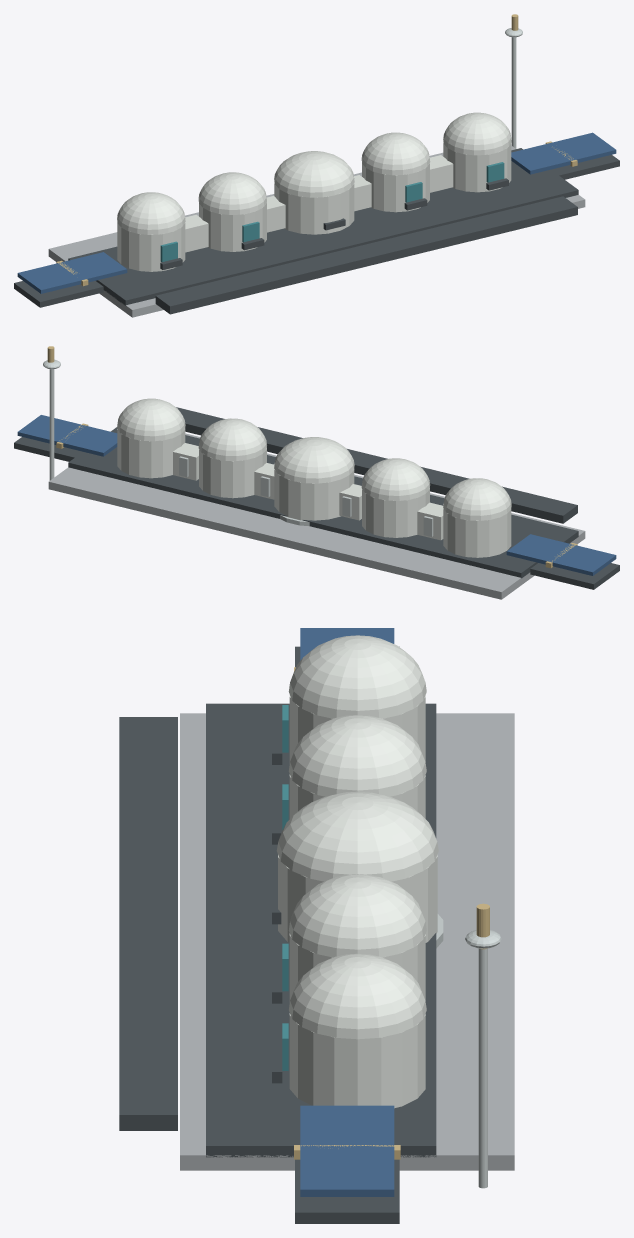
File: lunar_base.glb
3 views of the same model, one above another, from view 1: azimuth 30°, elevation 25°; view 2: azimuth 150°, elevation 25°; view 3: azimuth 270°, elevation 25° (orthographic). The views are drawn at different scales.
Visible parts, largest first — view 1: box/graphite (×4), dome/white (×5), cylinder/white (×5), box/solar (×2), box/white (×4), box/moon, cylinder/silver; view 2: box/graphite (×4), box/moon, dome/white (×5), cylinder/white (×5), box/solar (×2), box/white (×4), cylinder/silver; view 3: box/graphite (×3), dome/white (×5), box/moon, cylinder/white (×5), box/solar (×2), cylinder/silver.
Boxes of the visible parts, x1=… form: box/graphite (×4): x1=14, y1=148, x2=619, y2=314; dome/white (×5): x1=117, y1=112, x2=511, y2=234; cylinder/white (×5): x1=117, y1=142, x2=511, y2=271; box/solar (×2): x1=17, y1=132, x2=616, y2=293; box/white (×4): x1=185, y1=155, x2=453, y2=252; box/moon: x1=48, y1=145, x2=585, y2=317; cylinder/silver: x1=511, y1=37, x2=516, y2=148; box/graphite (×4): x1=14, y1=407, x2=619, y2=589; box/moon: x1=48, y1=433, x2=585, y2=599; dome/white (×5): x1=117, y1=398, x2=511, y2=520; cylinder/white (×5): x1=117, y1=429, x2=511, y2=557; box/solar (×2): x1=17, y1=415, x2=616, y2=575; box/white (×4): x1=173, y1=443, x2=443, y2=540; cylinder/silver: x1=49, y1=369, x2=54, y2=480; box/graphite (×3): x1=119, y1=703, x2=436, y2=1223; dome/white (×5): x1=276, y1=635, x2=438, y2=1039; box/moon: x1=180, y1=713, x2=514, y2=1170; cylinder/white (×5): x1=278, y1=695, x2=437, y2=1108; box/solar (×2): x1=300, y1=628, x2=394, y2=1196; cylinder/silver: x1=478, y1=948, x2=487, y2=1188.
Size of the model in its own units: 12.8 by 2.98 by 3.78.
